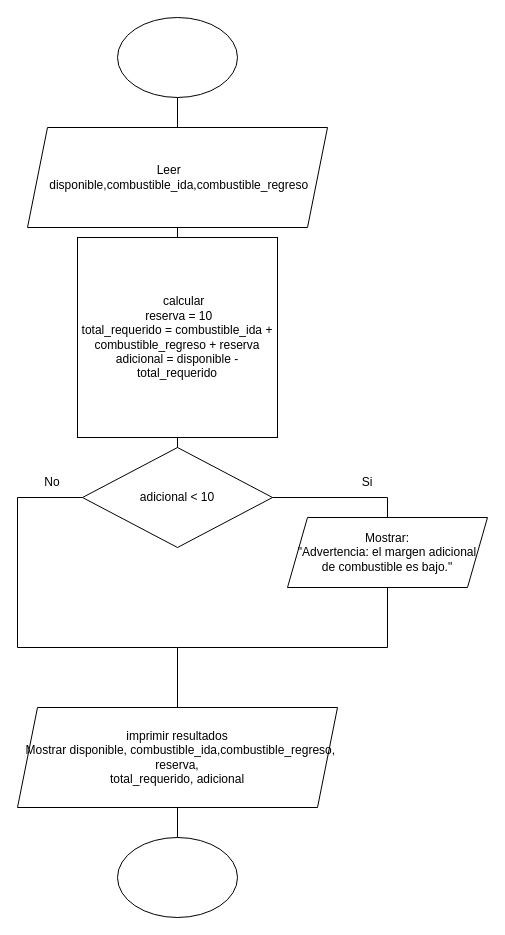
Some shapes in this 505 by 935 pixel diagram are drawn without their labels. The centre of each missing label's shape, as x and y in pixels:
"fin" belongs at [177,877].
"inicio" belongs at [177,57].
